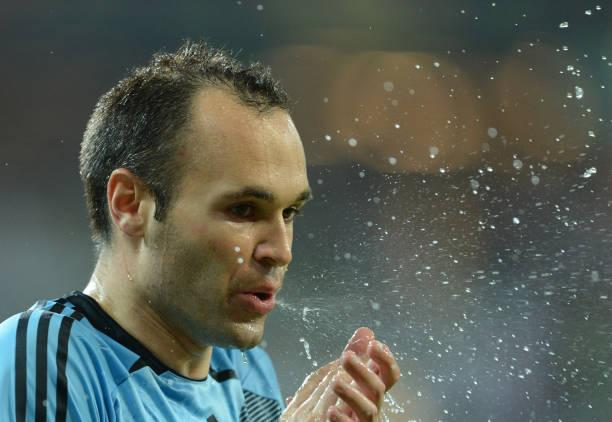Spitting: (62, 28, 334, 340)
